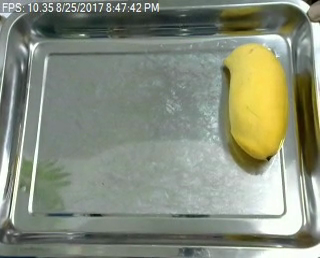Mango: (218, 43, 292, 159)
